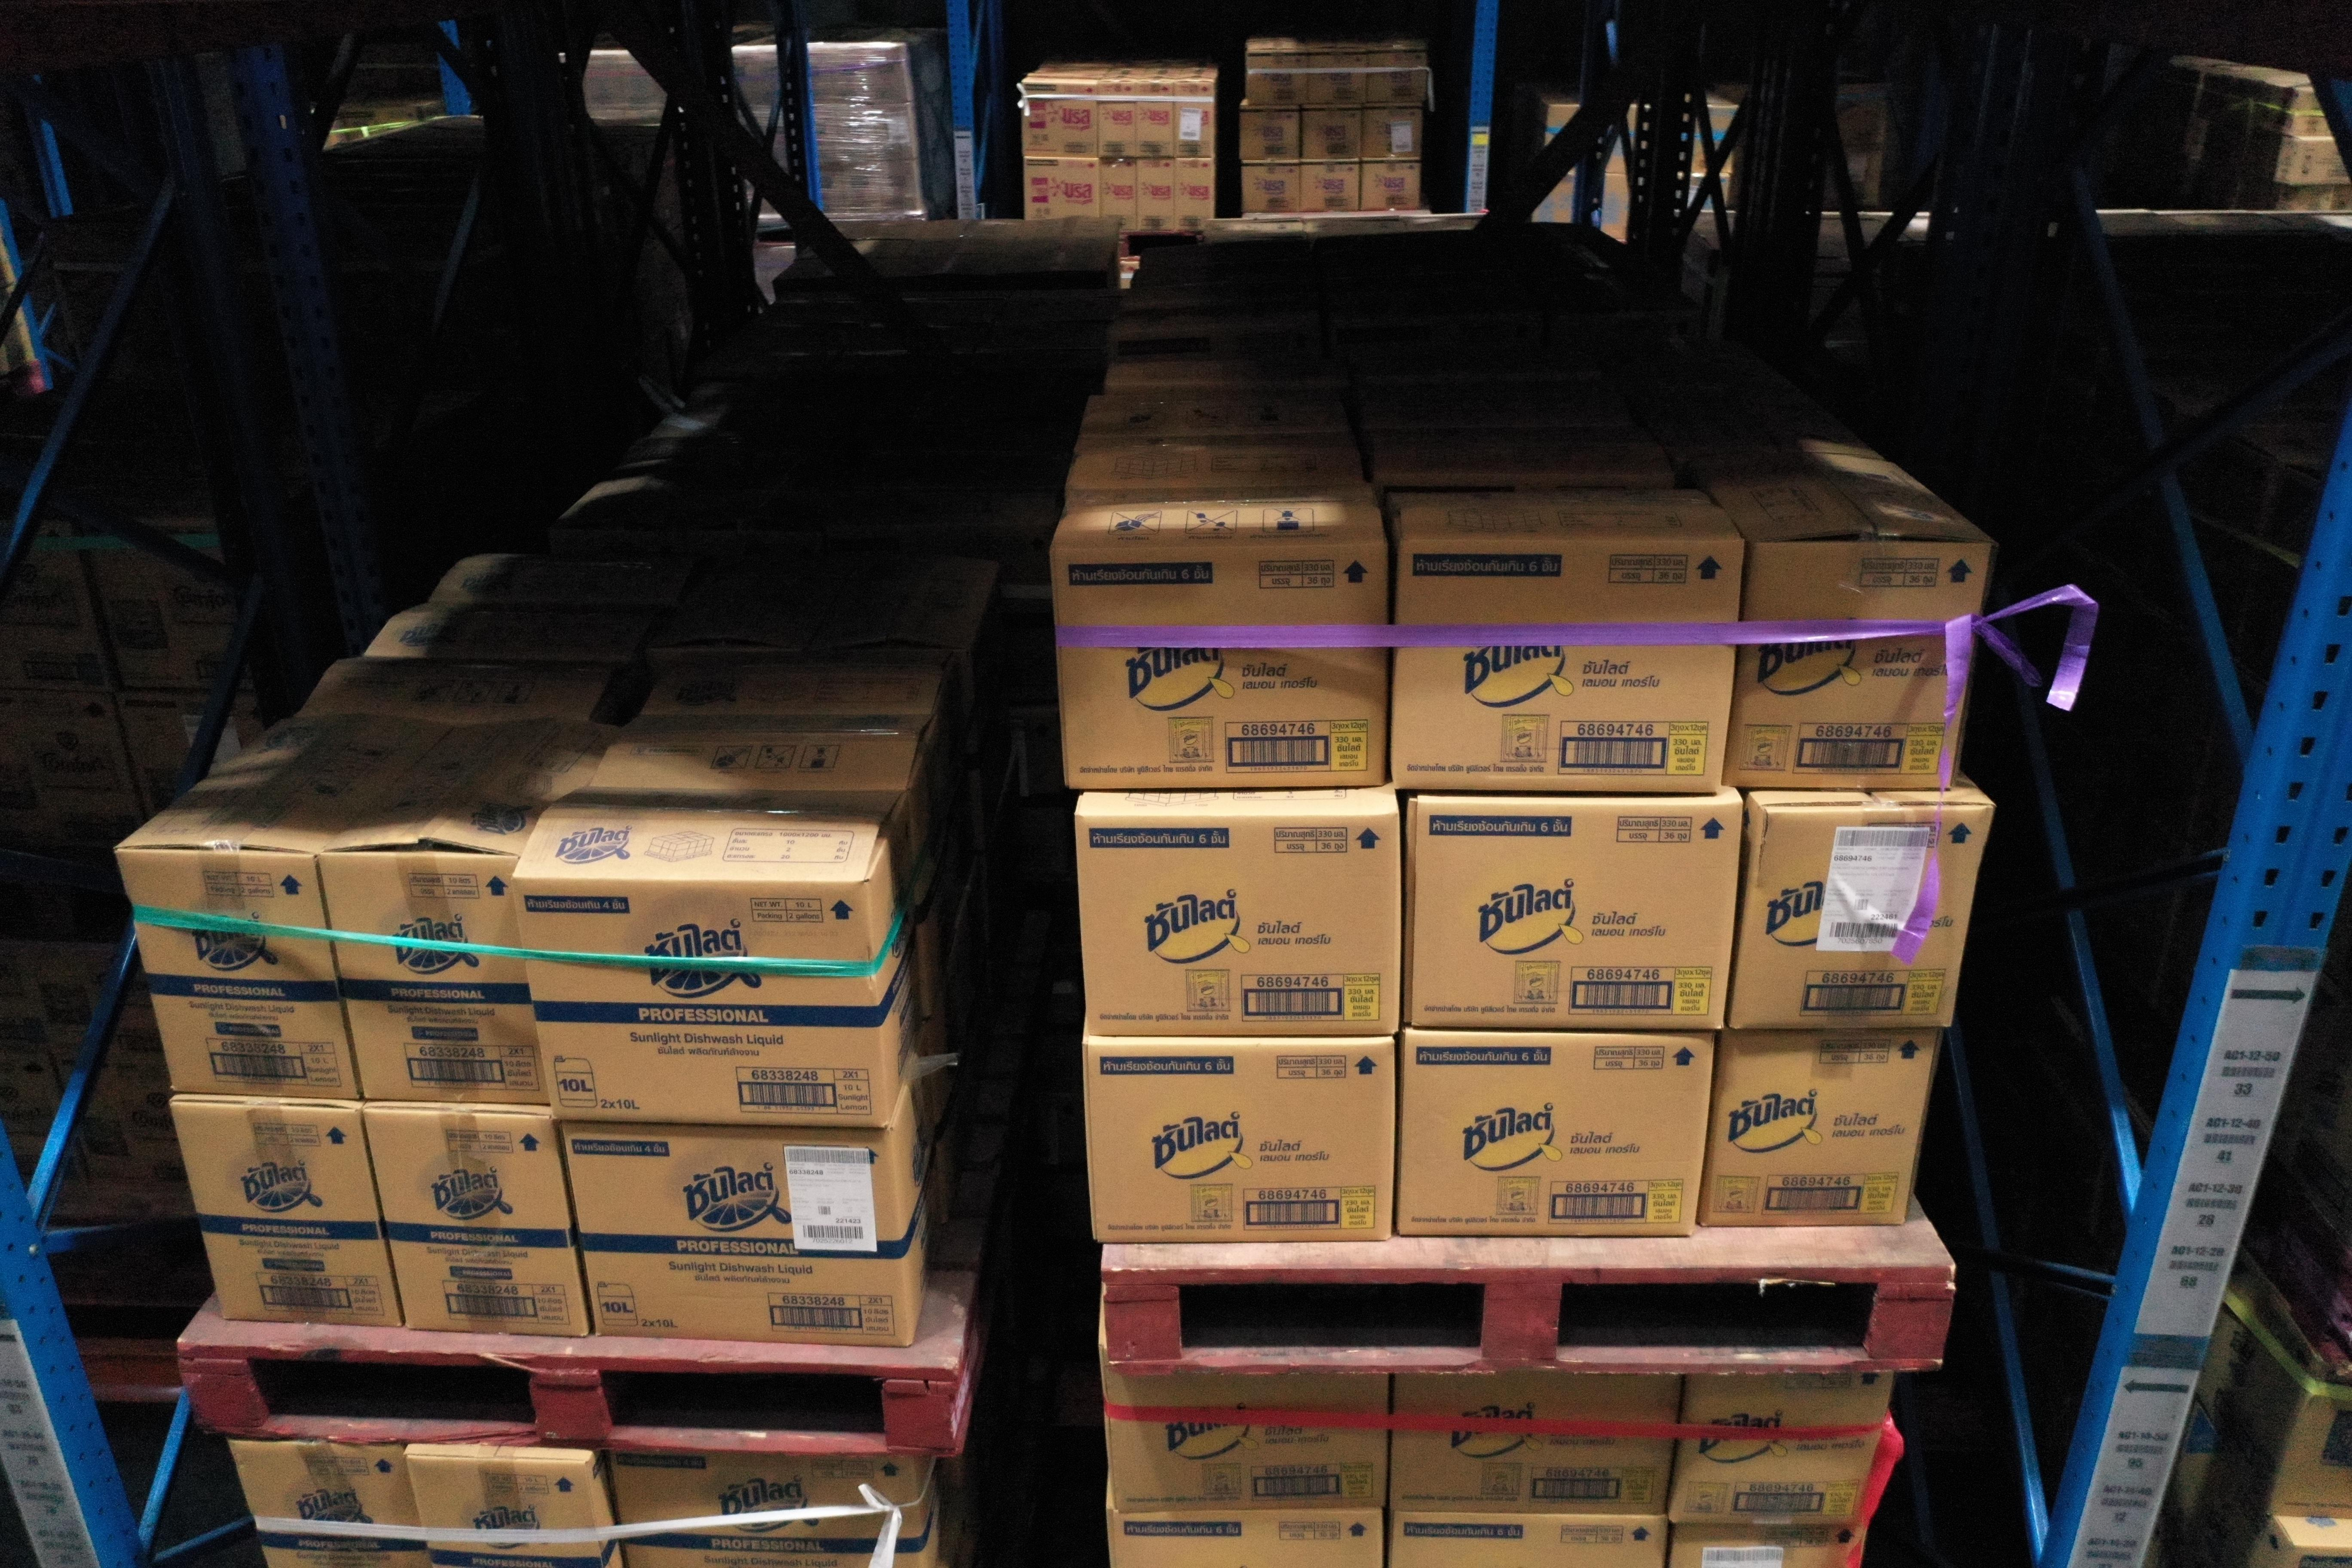-: (511, 875, 887, 1132), (1393, 541, 1745, 794), (1055, 541, 1389, 789), (1405, 798, 1743, 1031), (556, 1129, 912, 1349), (1076, 814, 1403, 1036), (1718, 541, 1991, 793), (1395, 1029, 1717, 1237), (1085, 1043, 1395, 1244), (117, 847, 360, 1102), (313, 852, 551, 1108), (1731, 805, 1991, 1031), (170, 1101, 402, 1328), (367, 1106, 590, 1337), (1697, 1029, 1939, 1230), (1389, 1370, 1685, 1519), (1102, 1370, 1391, 1512), (607, 1444, 931, 1568), (1669, 1372, 1893, 1528), (229, 1435, 434, 1568), (409, 1451, 612, 1568), (1109, 1508, 1384, 1568), (1389, 1510, 1669, 1568), (1671, 1528, 1864, 1568)
